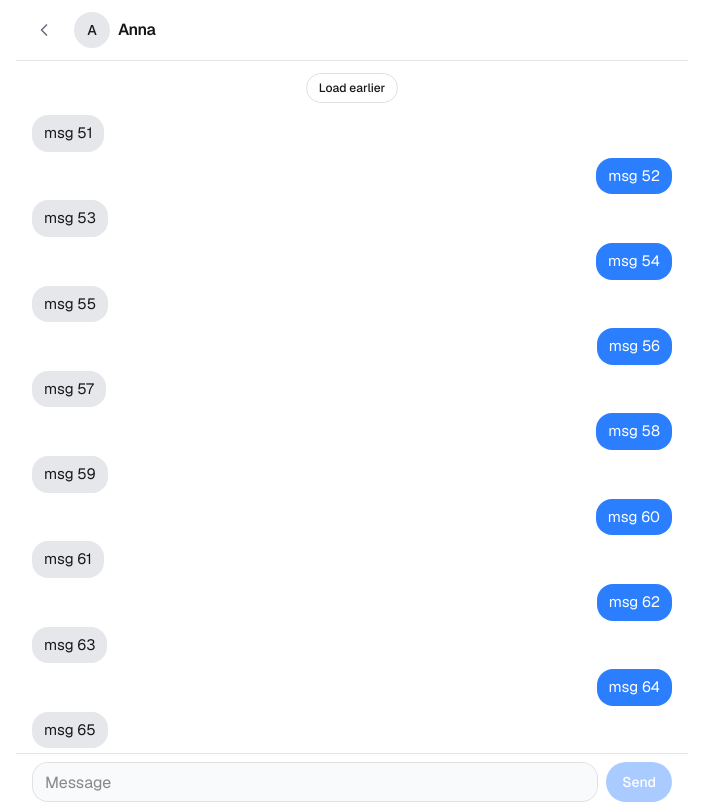
Test: ChatThread › a poll of the newest 50 keeps earlier pages and adds no duplicates
Click the button "Load earlier" at (352, 88), box [306, 73, 398, 103]
(page scrolled)
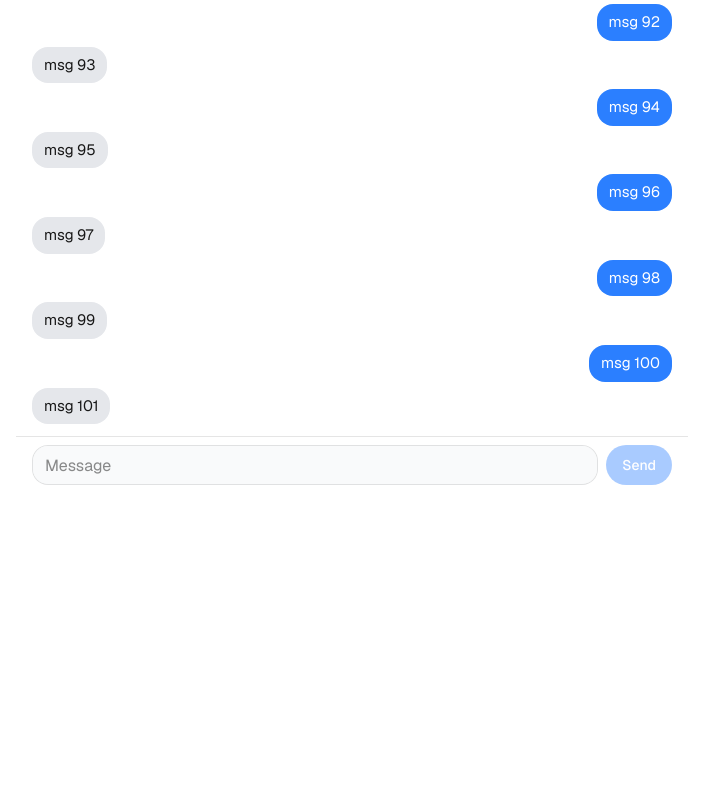
expect the button "Load earlier" is gone: met
expect the text "msg 101" is shown once: met, box [32, 388, 110, 424]
